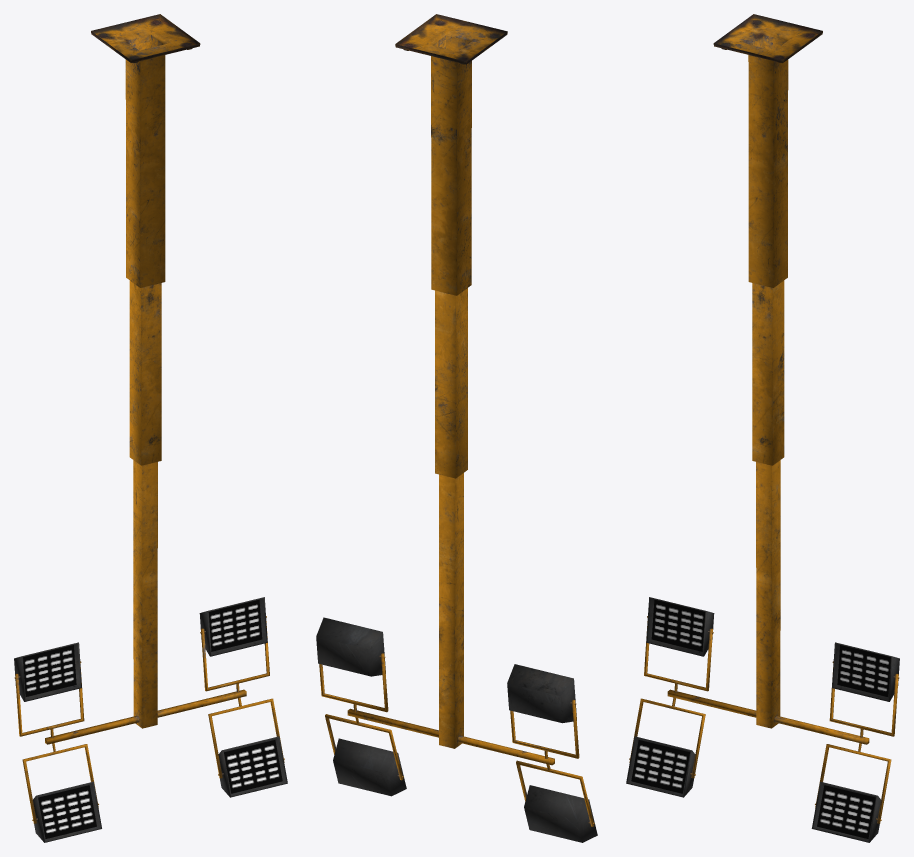
The model's file is Floodlight.fbx.
The picture shows the model from 3 angles, left to right: view 1: azimuth 30°, elevation 25°; view 2: azimuth 150°, elevation 25°; view 3: azimuth 330°, elevation 25°; orthographic projection. The views are drawn at different scales.
Visible parts, largest first — view 1: Floodlight; view 2: Floodlight; view 3: Floodlight.
Boxes of the visible parts, x1,y1,x2,y2 form: Floodlight: (14, 14, 287, 842); Floodlight: (316, 14, 597, 842); Floodlight: (626, 14, 899, 842).
Size of the model in its own units: 1.29 by 3.73 by 0.3612.
